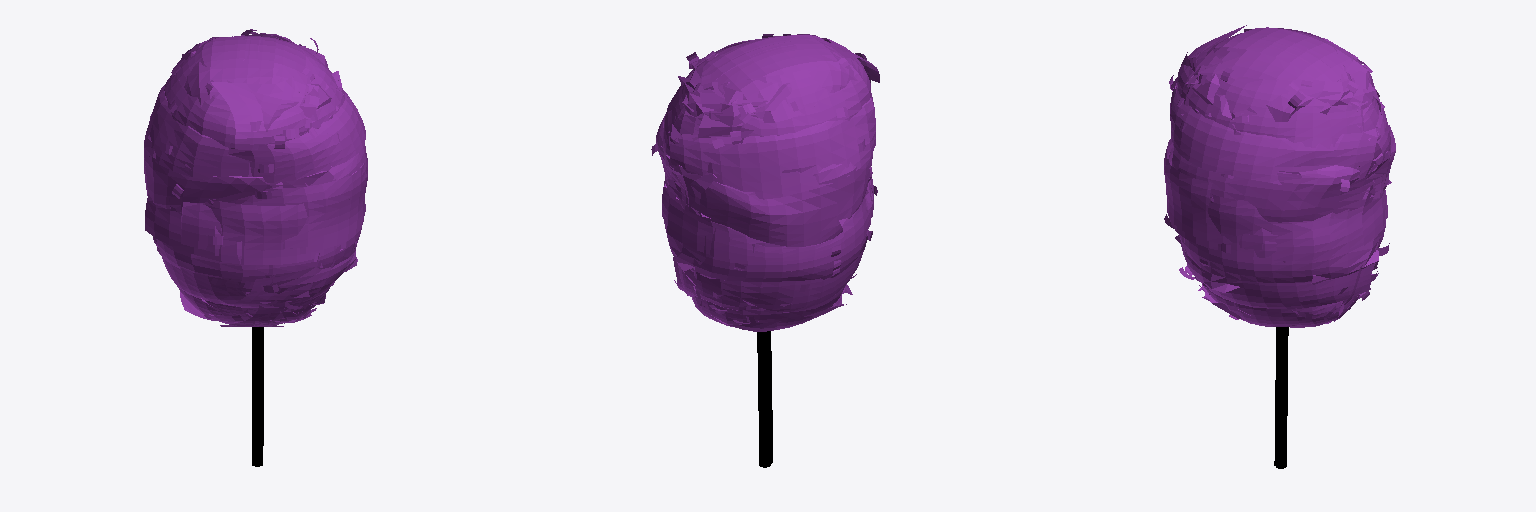
File: tree2.obj
3 views of the same model, side by side, from view 1: azimuth 30°, elevation 25°; view 2: azimuth 150°, elevation 25°; view 3: azimuth 270°, elevation 25° (orthographic).
Parts seen in each view (by area): view 1: pasted__Green3 pasted__Cotton_candy group2; view 2: pasted__Green3 pasted__Cotton_candy group2, pasted__pasted__pCylinder4 pasted__group1 group4; view 3: pasted__Green3 pasted__Cotton_candy group2, pasted__pasted__pCylinder4 pasted__group1 group4.
Boxes of the visible parts, box(x1,y1,x2,y2) form: pasted__Green3 pasted__Cotton_candy group2: box(144, 29, 367, 465); pasted__Green3 pasted__Cotton_candy group2: box(651, 34, 879, 463); pasted__pasted__pCylinder4 pasted__group1 group4: box(757, 331, 770, 467); pasted__Green3 pasted__Cotton_candy group2: box(1164, 25, 1395, 465); pasted__pasted__pCylinder4 pasted__group1 group4: box(1276, 327, 1288, 468).
Size of the model in its own units: 4.67 by 9.81 by 4.94.